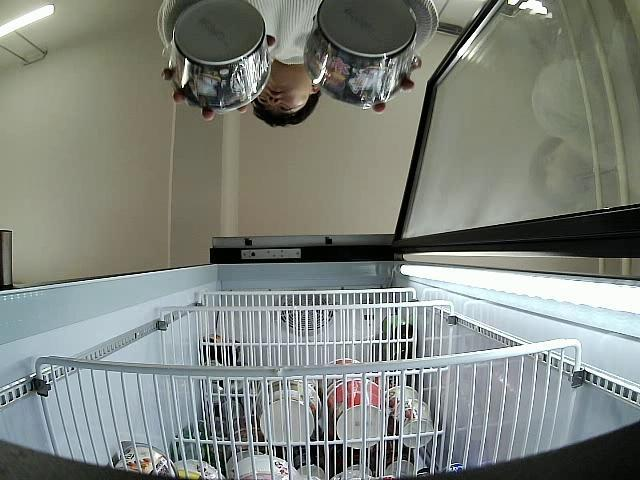07_buldak_L: (302, 0, 417, 100), (169, 0, 270, 107)
